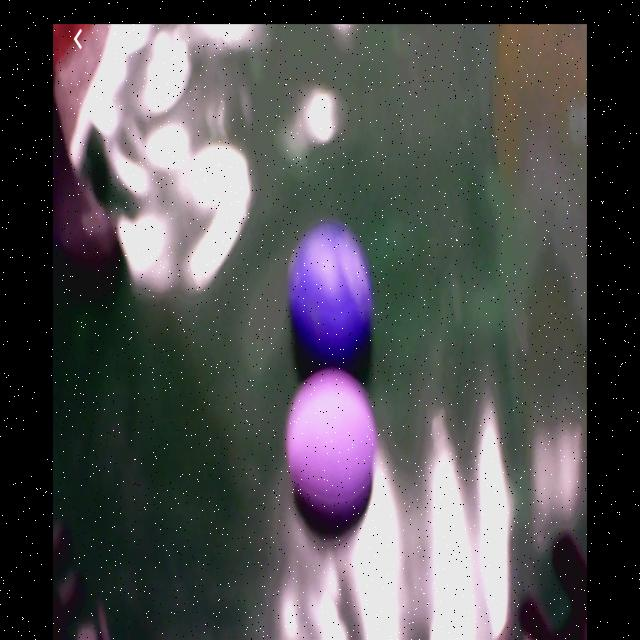ball: (287, 372, 379, 521), (288, 222, 375, 368)
